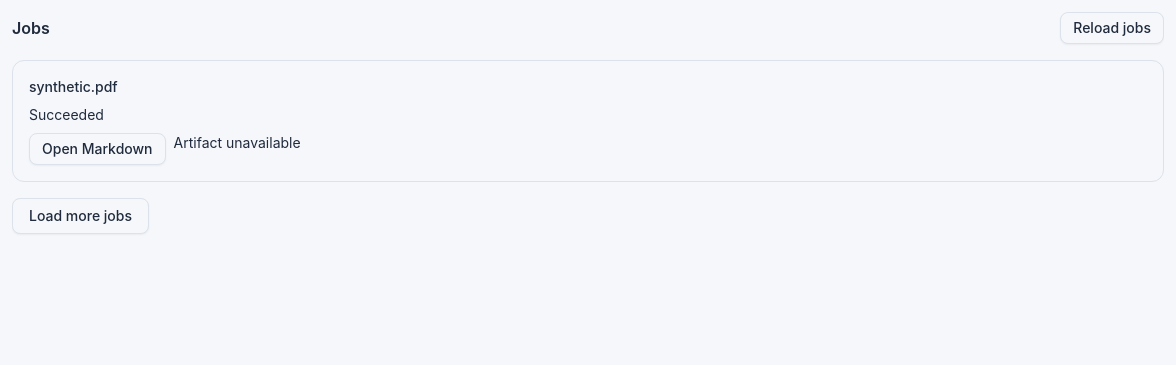
Test: TEST-CJU-009 paginates acknowledged history and opens only available artifacts without translating filenames
Later steps or results of the test are not shown.
What coordinates should you click on to do the following:
click the button "Open Markdown"
I would click on:
 (97, 149)
Its box is [29,133,166,165].
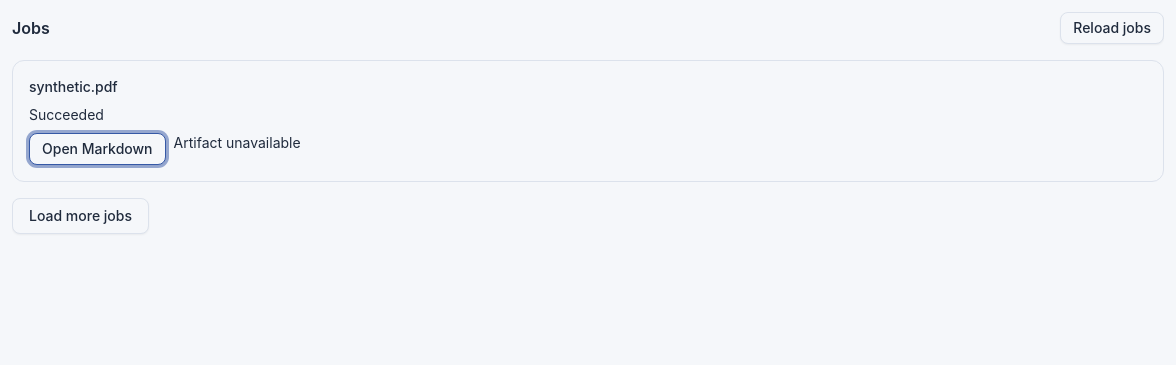
Check: the text "Artifact unavailable" is shown, box [174,134,301,151]
Check: the text "Succeeded" is shown, box [29,106,104,123]
What coordinates should you click on to do the following:
click the button "Load more jobs"
I would click on:
 (80, 216)
Its box is [12,198,149,234].
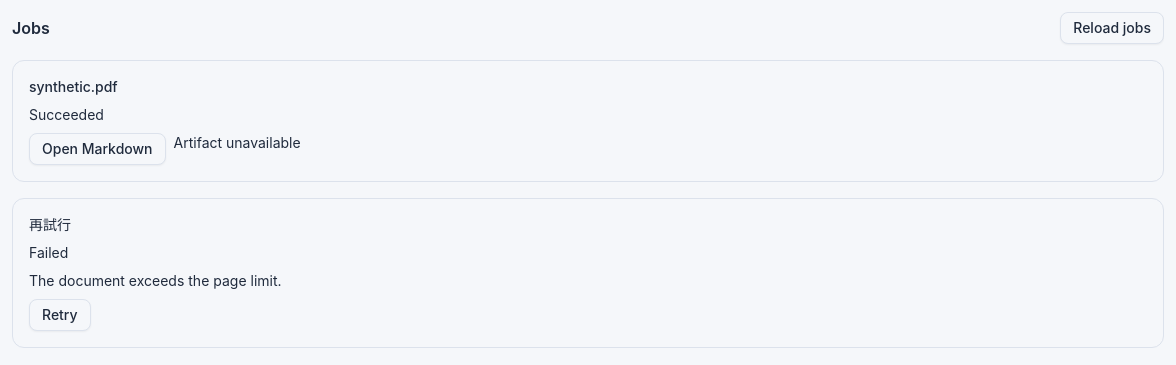
Check: the text "synthetic.pdf" is shown, box [29,78,118,95]
Check: the text "再試行" is shown, box [29,216,71,233]
Check: the text "The document exceeds the page limit." is shown, box [29,272,282,289]
